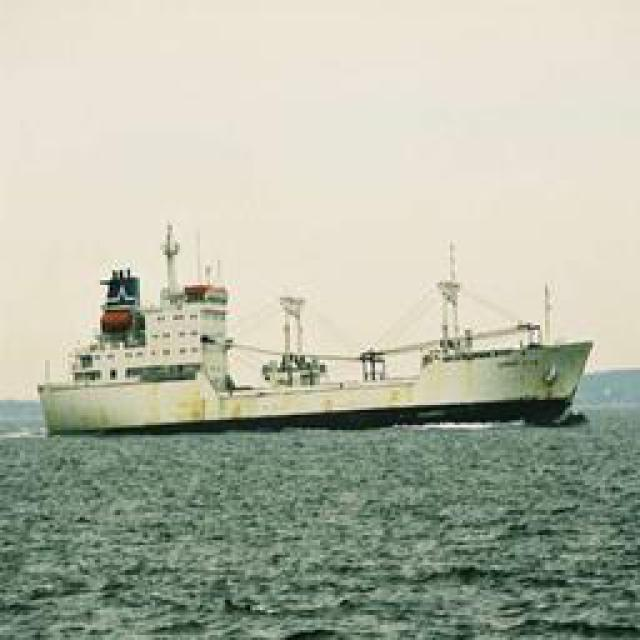Ship: (36, 226, 604, 436)
